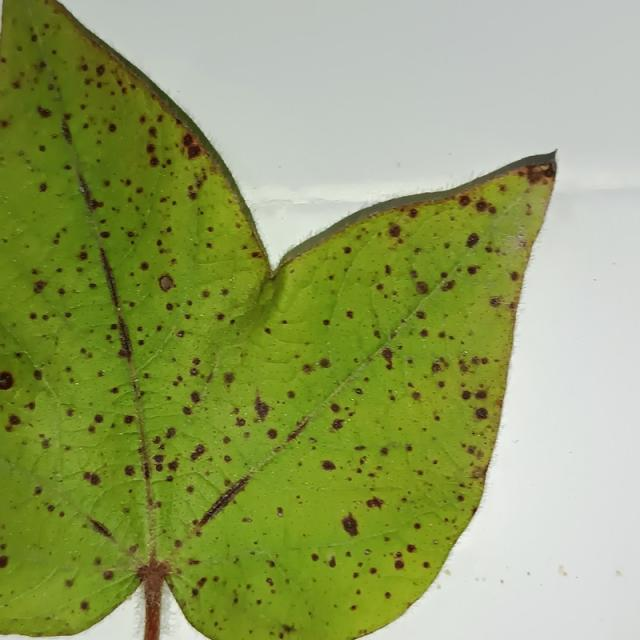Bacterial_Blight: (283, 412, 313, 443), (134, 560, 163, 583), (89, 518, 112, 538), (253, 396, 270, 422), (341, 513, 359, 536), (381, 348, 395, 369), (83, 471, 101, 487), (0, 371, 14, 391), (190, 443, 206, 460), (432, 357, 448, 374), (465, 232, 480, 248), (61, 122, 73, 142), (159, 275, 174, 291), (366, 496, 384, 509), (33, 279, 48, 294), (343, 306, 359, 320), (388, 223, 402, 238), (187, 144, 201, 159), (36, 105, 52, 118), (415, 281, 429, 295), (222, 371, 235, 385), (441, 279, 455, 292), (182, 133, 195, 147), (542, 164, 555, 178), (331, 418, 345, 430), (321, 460, 336, 471), (167, 459, 179, 472), (489, 296, 502, 308), (8, 414, 21, 426), (458, 360, 470, 373), (475, 407, 488, 419), (474, 389, 488, 400), (281, 623, 295, 634), (187, 185, 197, 200), (516, 233, 526, 248), (266, 428, 278, 440), (475, 200, 487, 212), (471, 467, 483, 479), (467, 265, 480, 276), (190, 391, 201, 404), (165, 426, 176, 439), (95, 64, 106, 77), (458, 195, 471, 206), (205, 369, 214, 384), (124, 465, 135, 477), (117, 347, 129, 358), (301, 363, 313, 373), (148, 126, 158, 138), (557, 565, 567, 577), (0, 556, 9, 569), (415, 310, 426, 320), (319, 358, 330, 368), (329, 403, 340, 413), (123, 414, 134, 424), (93, 413, 104, 423), (33, 369, 43, 380), (235, 417, 246, 427), (146, 143, 156, 154), (509, 271, 519, 282), (394, 559, 404, 570), (153, 454, 164, 464), (103, 570, 114, 580), (327, 556, 336, 568), (419, 328, 429, 338), (38, 182, 48, 192), (139, 261, 149, 271), (411, 391, 421, 401), (182, 405, 192, 415), (461, 390, 471, 400), (149, 156, 159, 166), (80, 601, 89, 612), (286, 390, 296, 399), (78, 251, 88, 260), (379, 446, 389, 455), (108, 123, 117, 133), (406, 544, 416, 553), (409, 270, 419, 279), (223, 435, 232, 445), (65, 578, 74, 588), (409, 208, 419, 217), (384, 264, 392, 275), (99, 231, 110, 239), (251, 251, 262, 259), (354, 444, 366, 451), (342, 245, 351, 254), (66, 408, 75, 417), (165, 302, 174, 311), (223, 454, 232, 463), (265, 578, 274, 587), (33, 486, 42, 495), (46, 504, 55, 513), (276, 507, 284, 517), (216, 313, 225, 321), (311, 553, 319, 562), (189, 368, 198, 376), (191, 588, 199, 597), (221, 288, 229, 296), (38, 144, 46, 152), (413, 522, 421, 530), (437, 380, 445, 388), (176, 330, 184, 338), (615, 570, 623, 578), (354, 388, 363, 395), (242, 517, 252, 523), (322, 319, 330, 326), (370, 567, 377, 575), (31, 34, 38, 42), (394, 551, 402, 558), (264, 327, 271, 334), (384, 592, 391, 599), (444, 569, 451, 576), (350, 605, 357, 611), (364, 549, 371, 555), (433, 539, 439, 544), (526, 571, 531, 576), (350, 397, 355, 402), (463, 350, 468, 354), (500, 579, 504, 584), (593, 278, 597, 281)
Cotton: (0, 0, 555, 639)
